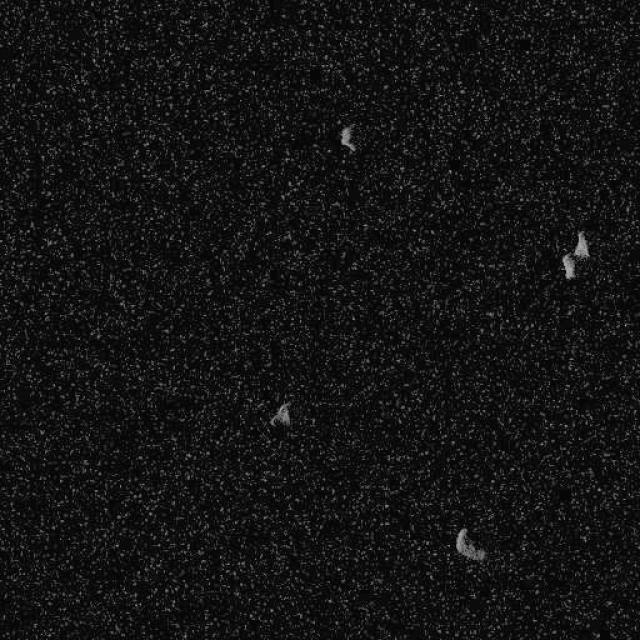D2: (560, 229, 590, 280), (454, 526, 486, 562), (269, 402, 291, 428), (338, 124, 358, 152)
